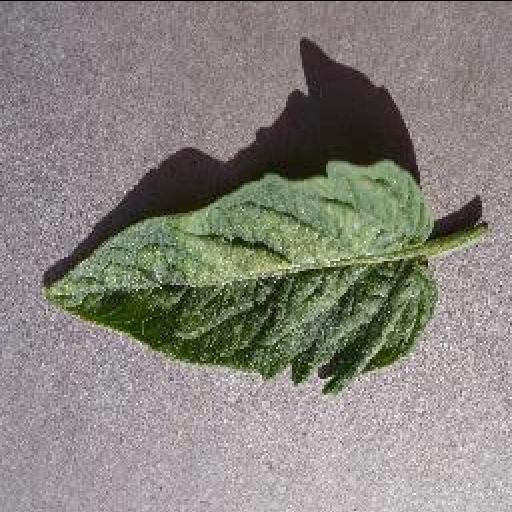disease_tomato: (46, 155, 440, 393)
